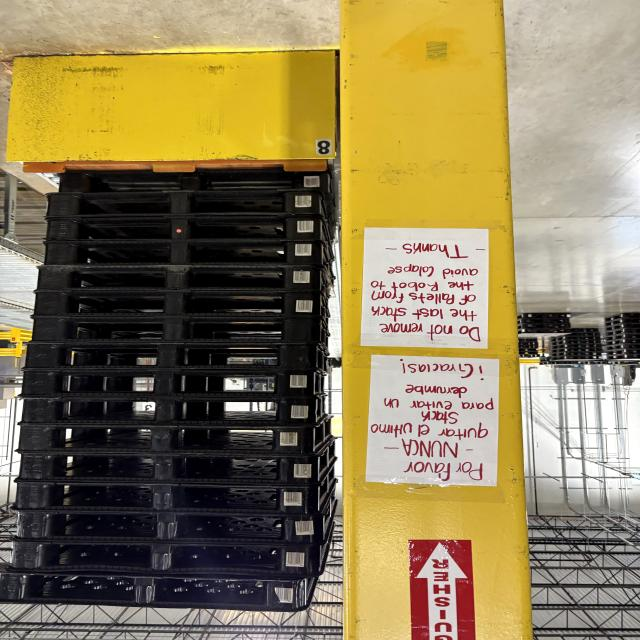igps: (0, 571, 311, 615), (0, 541, 327, 579), (5, 509, 329, 545), (10, 451, 324, 486), (9, 482, 323, 516), (10, 396, 320, 426), (20, 317, 327, 347), (39, 188, 327, 218), (12, 424, 318, 452), (55, 163, 336, 193), (12, 370, 323, 397), (35, 241, 327, 268), (24, 292, 324, 318), (40, 216, 330, 242), (17, 346, 322, 370), (29, 269, 326, 293), (517, 327, 573, 340), (601, 354, 640, 368), (602, 311, 640, 323), (549, 356, 604, 364), (520, 311, 573, 319), (603, 318, 640, 328), (603, 327, 640, 337), (519, 318, 571, 324), (520, 323, 572, 329), (602, 333, 640, 341), (602, 339, 640, 347), (603, 324, 640, 332), (600, 344, 640, 351), (600, 349, 640, 355), (564, 343, 603, 348), (569, 327, 600, 333), (562, 336, 602, 340), (563, 340, 602, 344), (564, 348, 603, 352), (563, 332, 601, 336), (519, 354, 542, 360), (563, 352, 603, 355), (518, 338, 539, 342), (518, 348, 539, 352), (518, 342, 539, 345), (518, 345, 539, 348), (518, 351, 539, 354)
